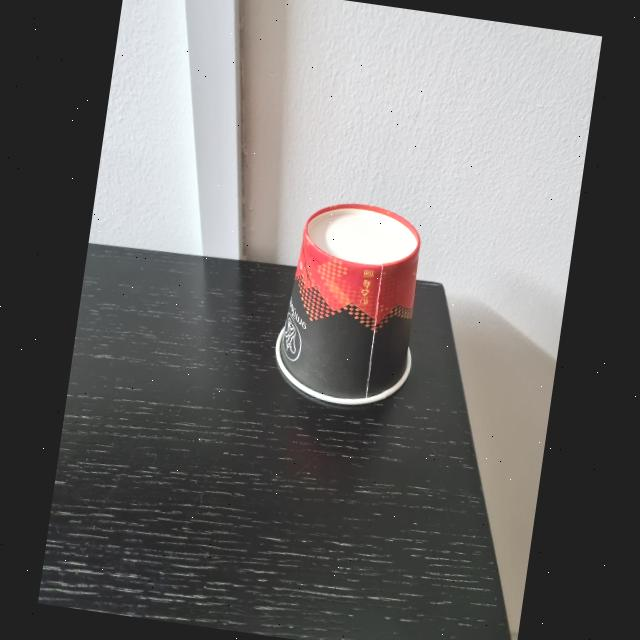trash: (271, 194, 434, 408)
